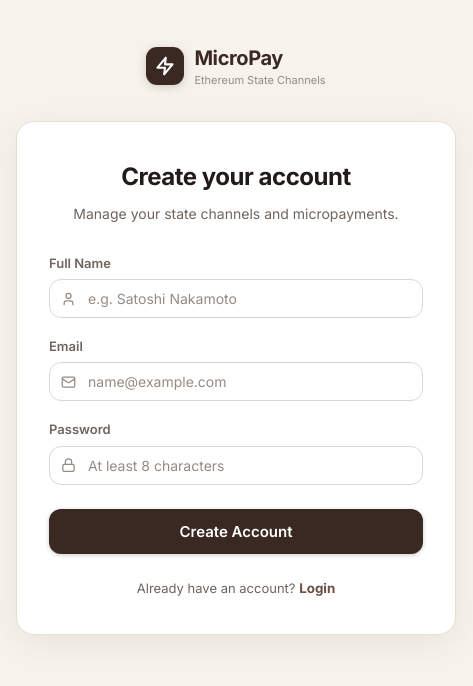
Test: Auth Pages › SignUpPage validates password length >= 8
Step 1. Type "Vitalik Buterin" into the field labelled "Full Name" → x=236, y=299, box [49,279,423,318]
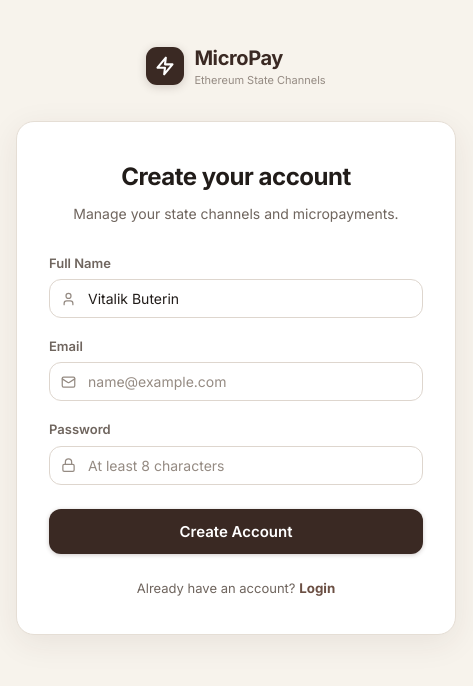
Step 2. Type "vitalik@ethereum.org" into the field labelled "Email" → x=236, y=382, box [49,362,423,402]
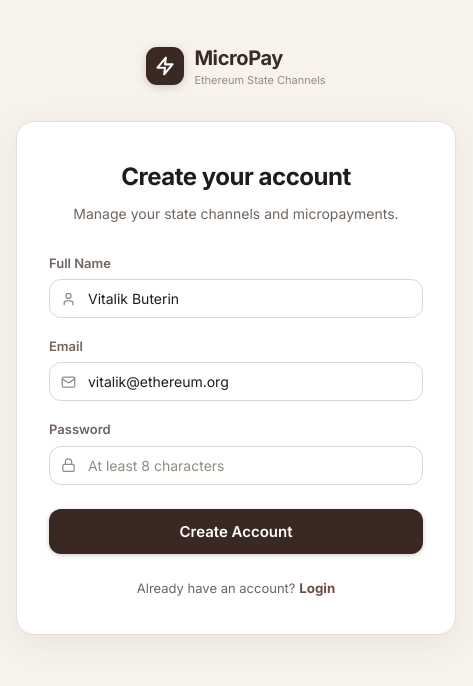
Step 3. Type "123" into the password field labelled "Password" → x=236, y=465, box [49,446,423,485]
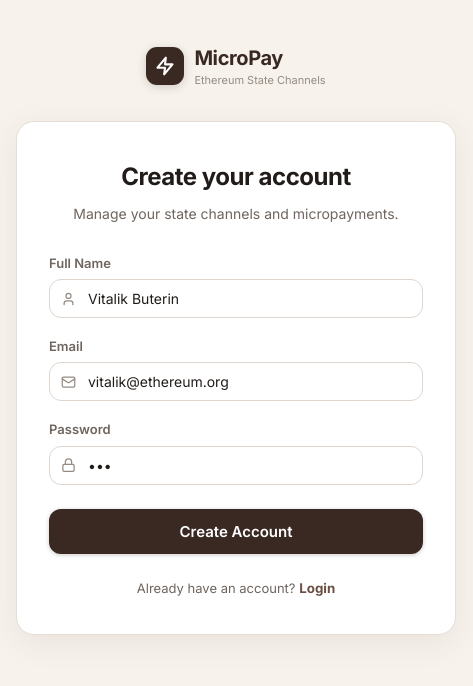
Step 4. Click the button "Create Account" → x=236, y=531, box [49,509,423,554]
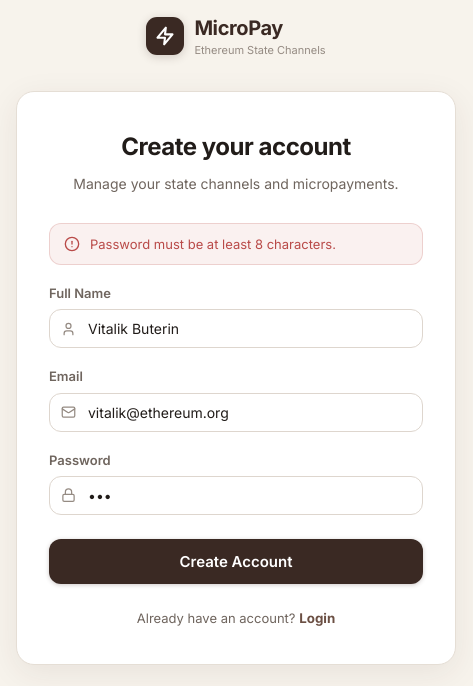
Expected: the text "Password must be at least 8 characters." is shown, [90,234,336,254]
